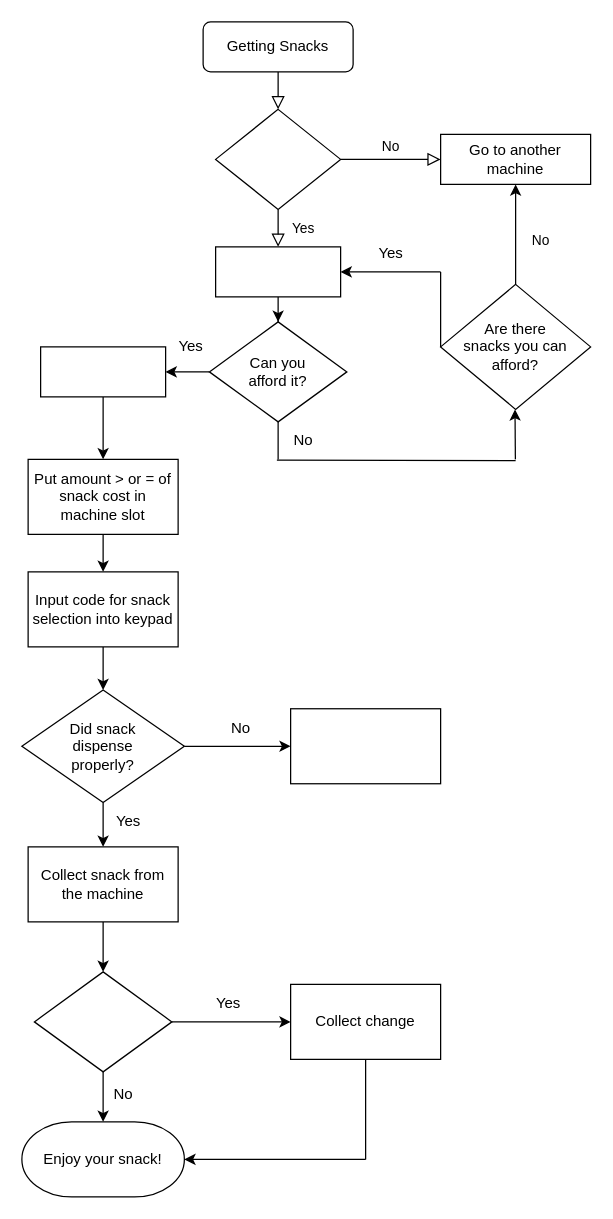
Image size: 613x1219. Some labels were removed from this diagram. The shapes that lost their labels are listed below. From the top down, each one's centre as x and y in pixels, then its label:
At pixel 277 158: "Is the machine on?".
At pixel 277 271: "Select snack from options".
At pixel 102 371: "Get money ready".
At pixel 365 746: "Call number on the machine".
At pixel 102 1021: "Was money input more than cost?".
